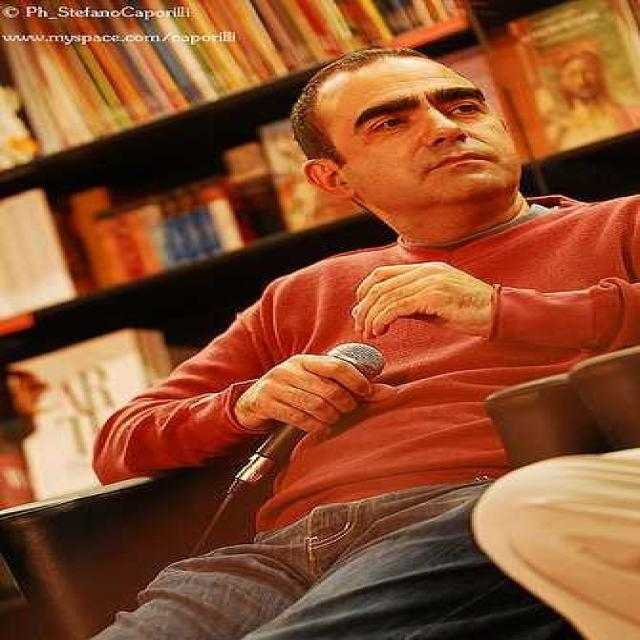microphone: (185, 339, 390, 555)
